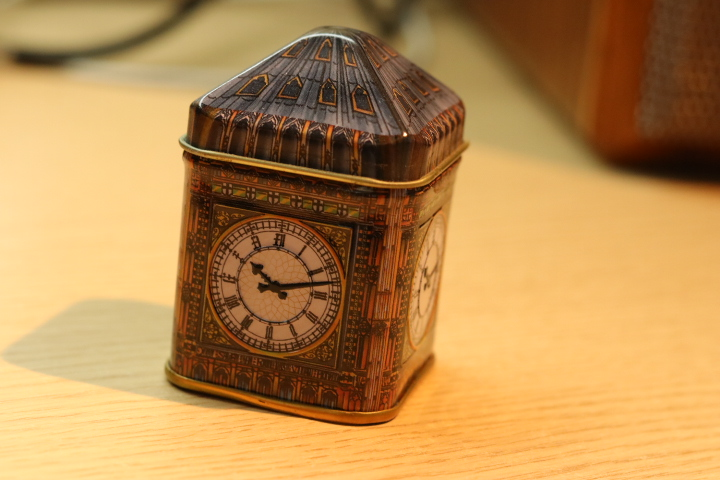Big Ben: (159, 12, 494, 432)
